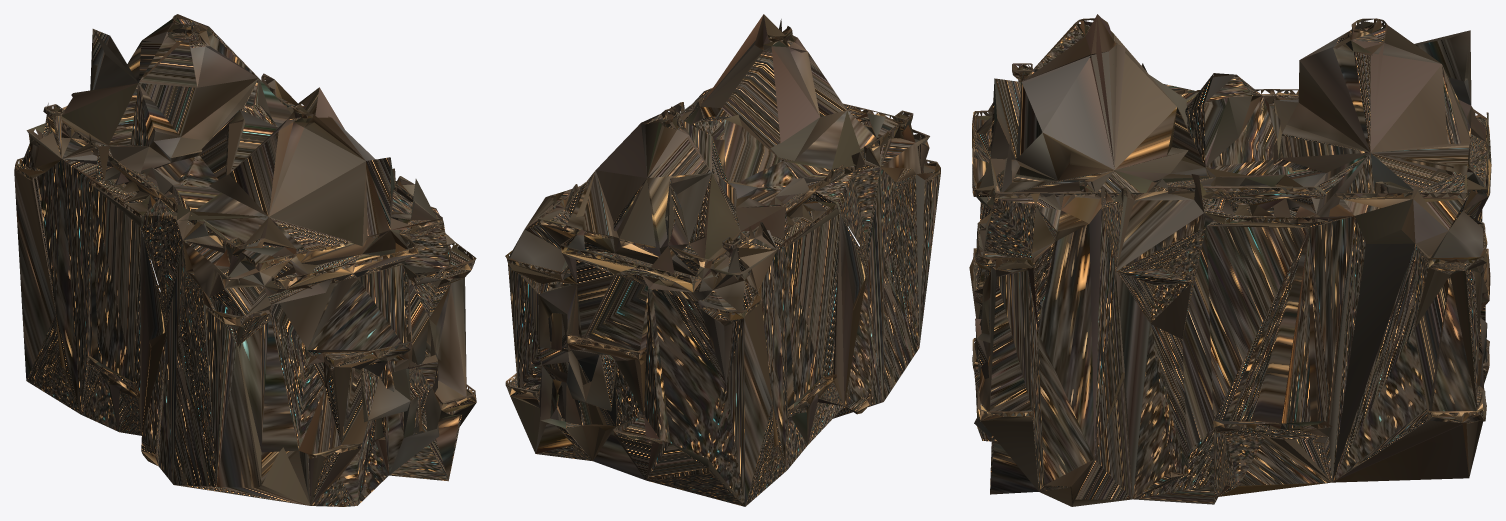
File: f02_far.glb
3 views of the same model, side by side, from view 1: azimuth 30°, elevation 25°; view 2: azimuth 150°, elevation 25°; view 3: azimuth 270°, elevation 25° (orthographic). The views are drawn at different scales.
Parts seen in each view (by area): view 1: f02_far; view 2: f02_far; view 3: f02_far.
Boxes of the visible parts, left/top/right/bottom form: f02_far: left=14, top=14, right=476, bottom=506; f02_far: left=505, top=14, right=940, bottom=506; f02_far: left=969, top=14, right=1491, bottom=506.
Bounding box in the file's own units: 30.65 × 44 × 47.6.
1 material, 1 textured.
